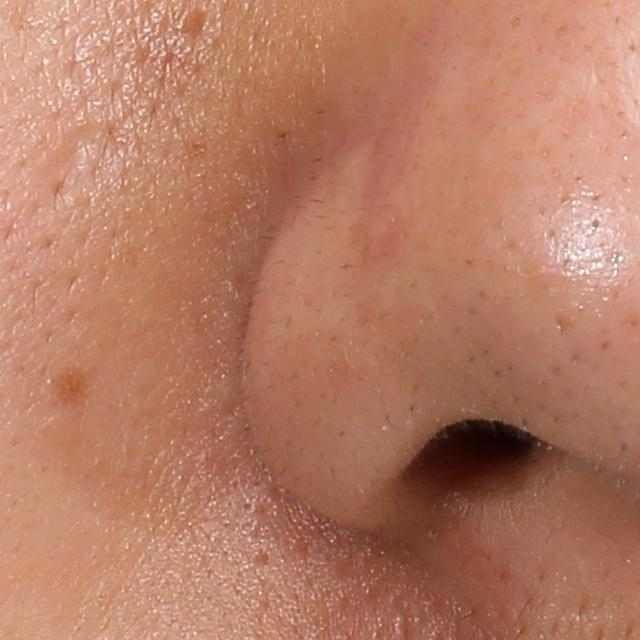atrophic_scar: (41, 118, 106, 219), (174, 3, 215, 43), (553, 311, 576, 338)
